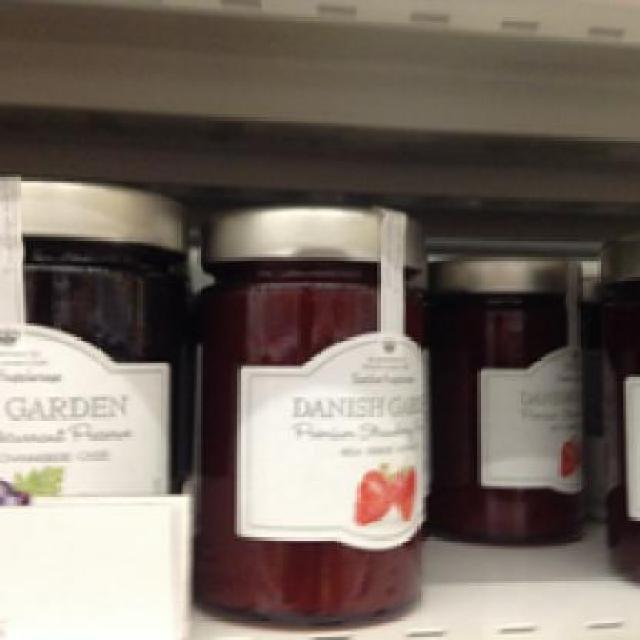Jam: (185, 205, 428, 626), (0, 174, 177, 497), (425, 251, 581, 540)
